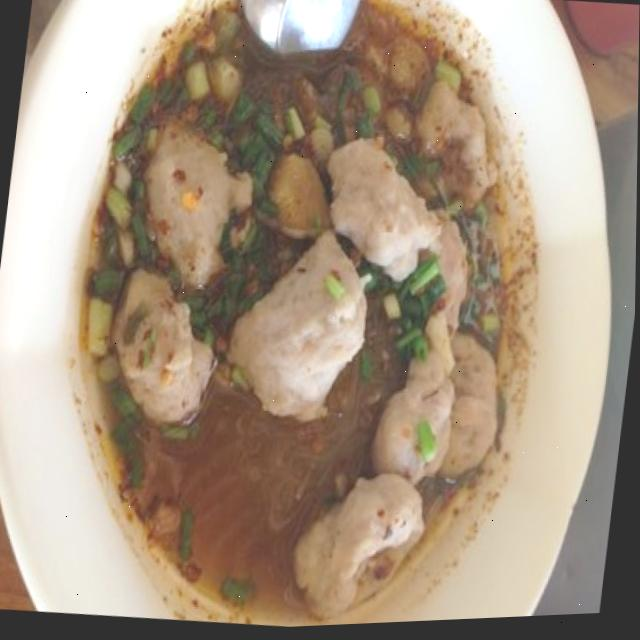猪肉菜式: (61, 0, 574, 638)
